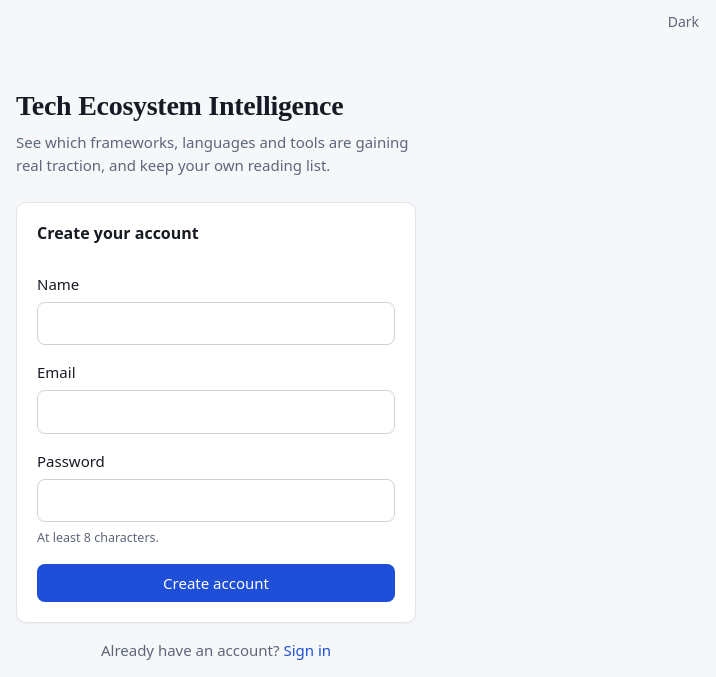
route protection › after an email-first sign-up it asks the person to check their email instead of signing them in
Type "Ada" into the field labelled "Name" at (216, 324), box [37,302,395,345]
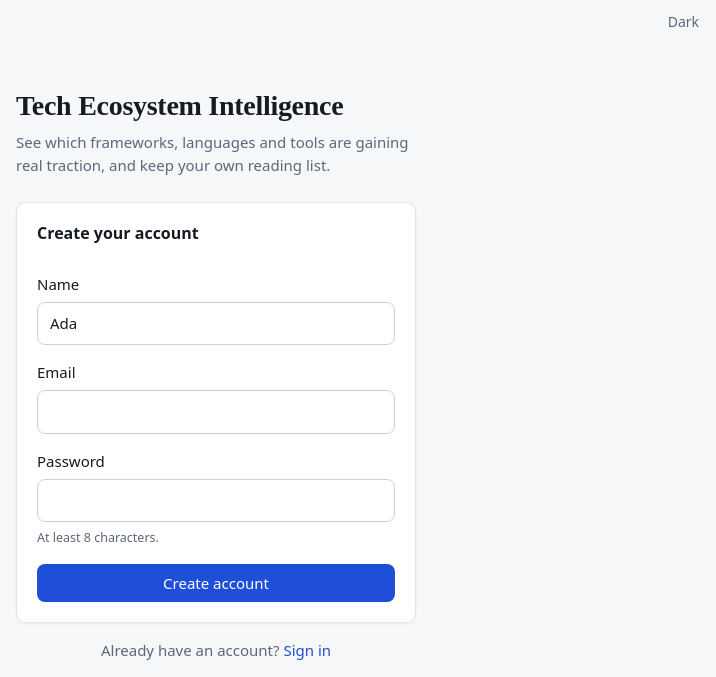
Type "ada@example.com" into the field labelled "Email" at (216, 412), box [37,390,395,434]
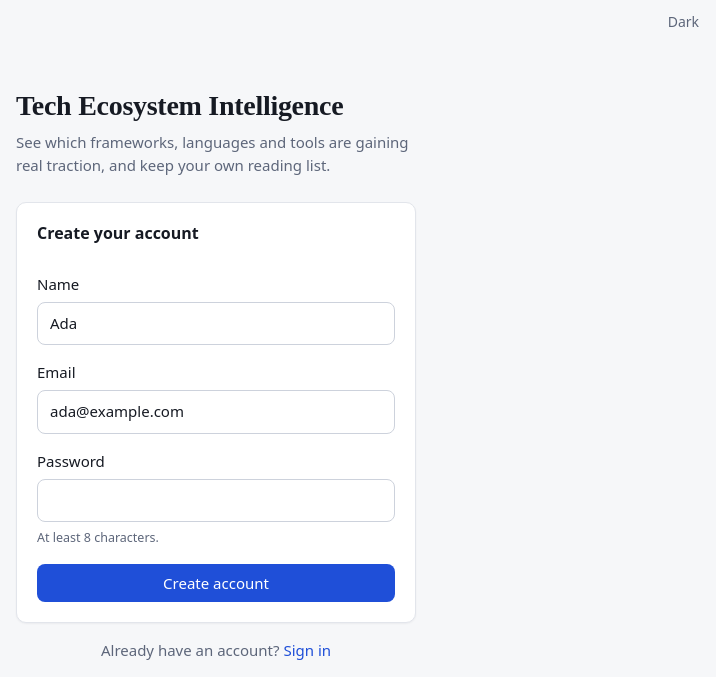
Type "password123" into the password field labelled "Password At least 8 characters." at (216, 501), box [37,479,395,522]
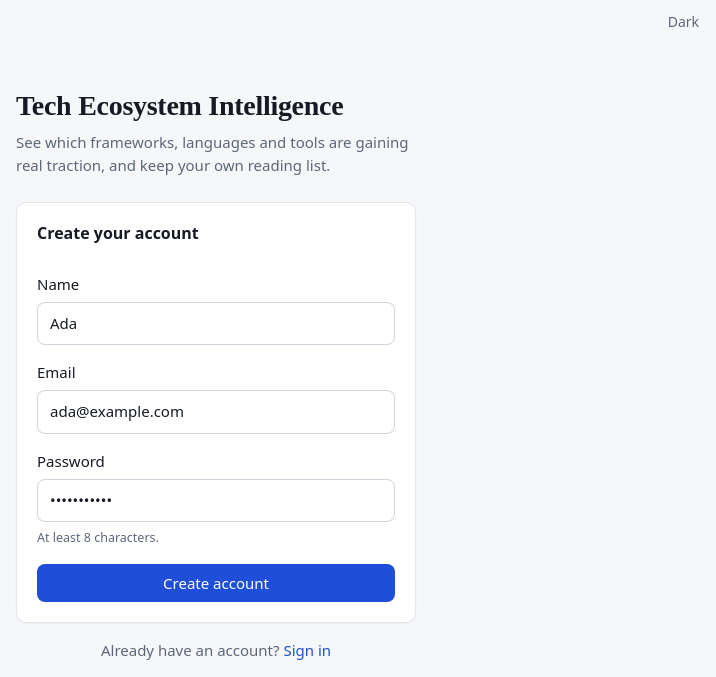
Click the button "Create account" at (216, 583), box [37,564,395,602]
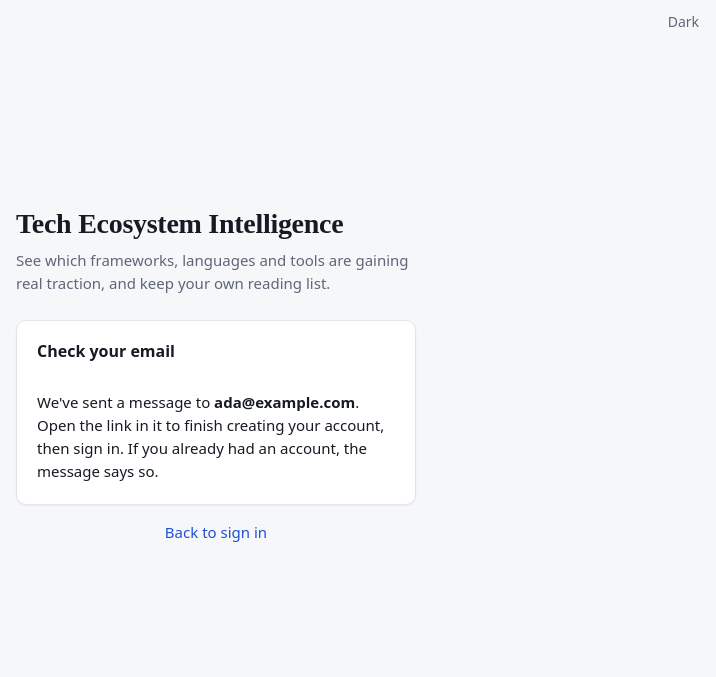
Check: the heading "Check your email" is shown, box [37,340,175,362]
Check: the text "ada@example.com" is shown, box [214,392,355,412]
